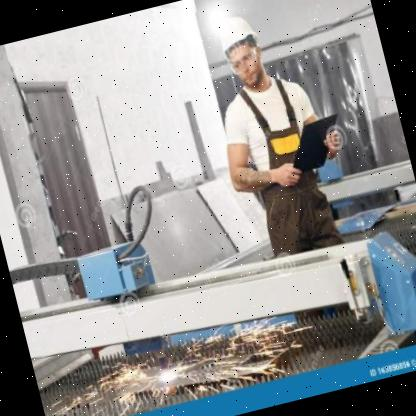oculos: (216, 42, 282, 80)
